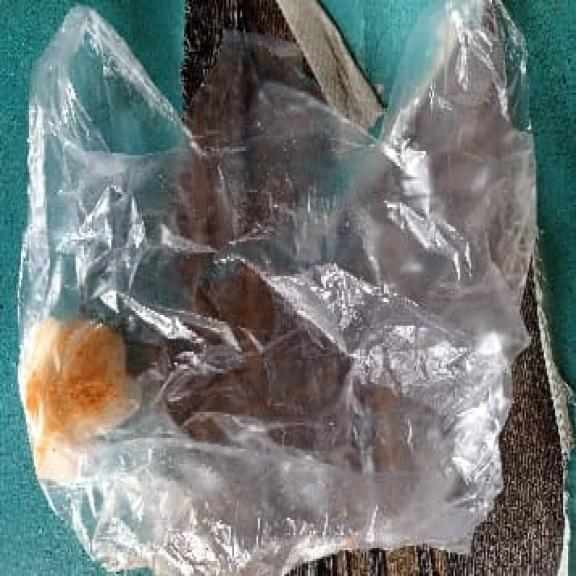Plastik: (18, 3, 535, 574)
